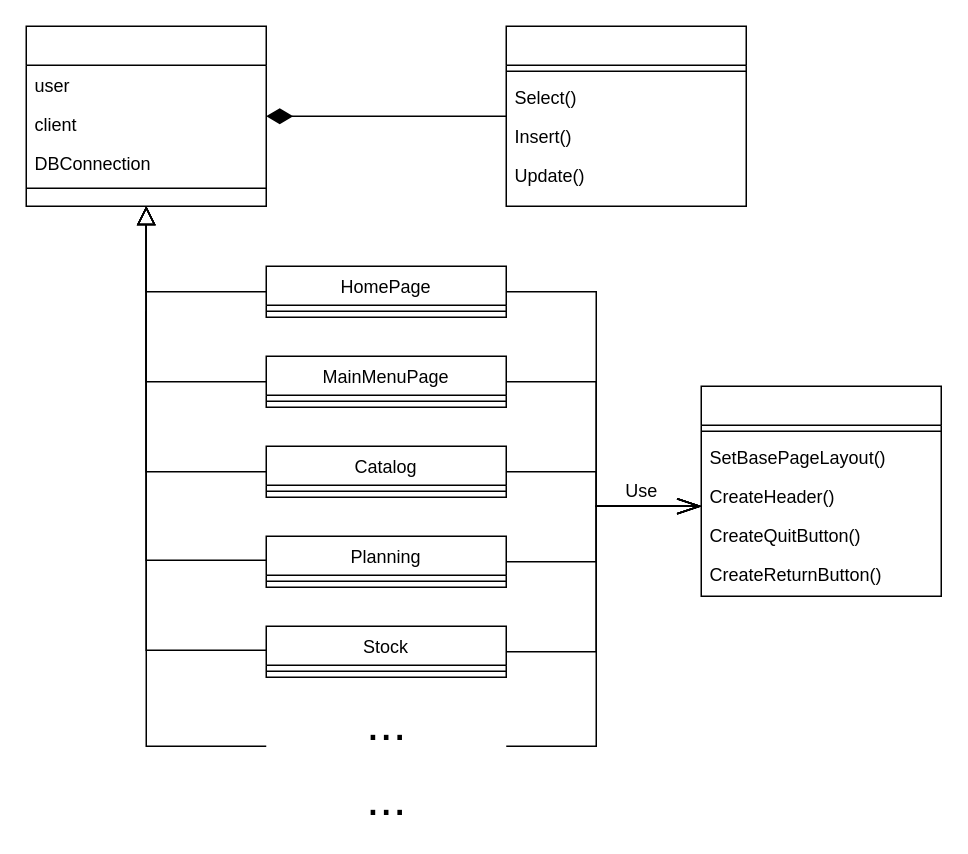
Image size: 968x854. Some labels were removed from this diagram. The shapes that lost their labels are listed below. From the top down, each one's box as (x1, y1, x2, y2) in pixels, then its label:
(25, 25, 266, 206): BoveloBaseForm
(505, 25, 746, 206): DB_Connect
(700, 385, 941, 596): PageLayoutMaker
